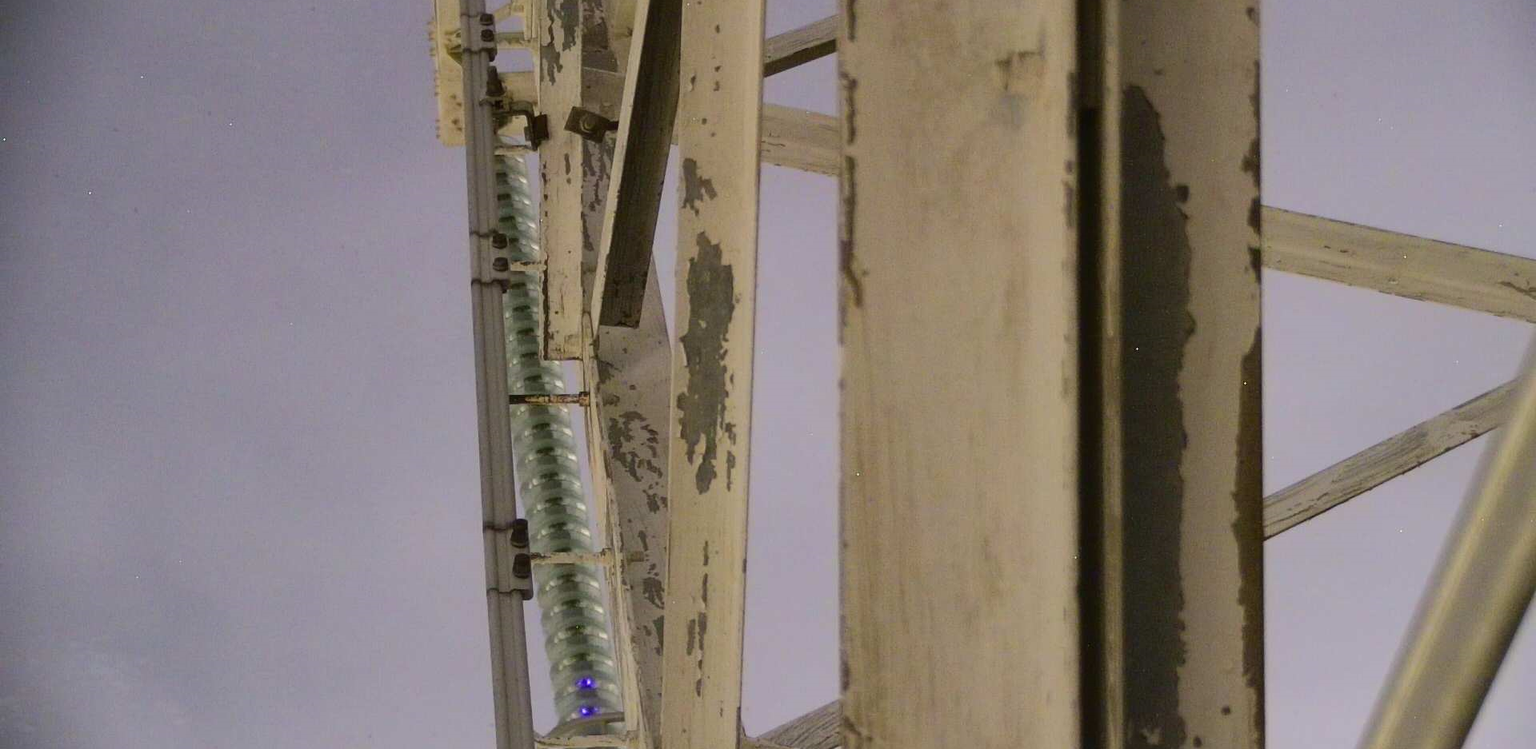绝缘子污闪: (574, 675, 598, 689), (578, 705, 600, 717)
